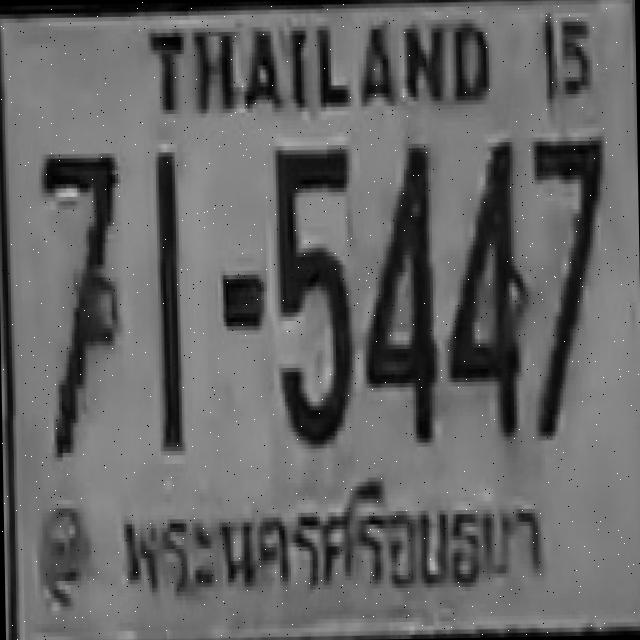1: (151, 150, 183, 448)
4: (443, 135, 528, 435), (361, 138, 436, 438)
5: (272, 140, 354, 444)
7: (38, 146, 122, 454), (529, 132, 608, 432), (38, 148, 121, 358)
Ayutthaya: (114, 466, 556, 607)
